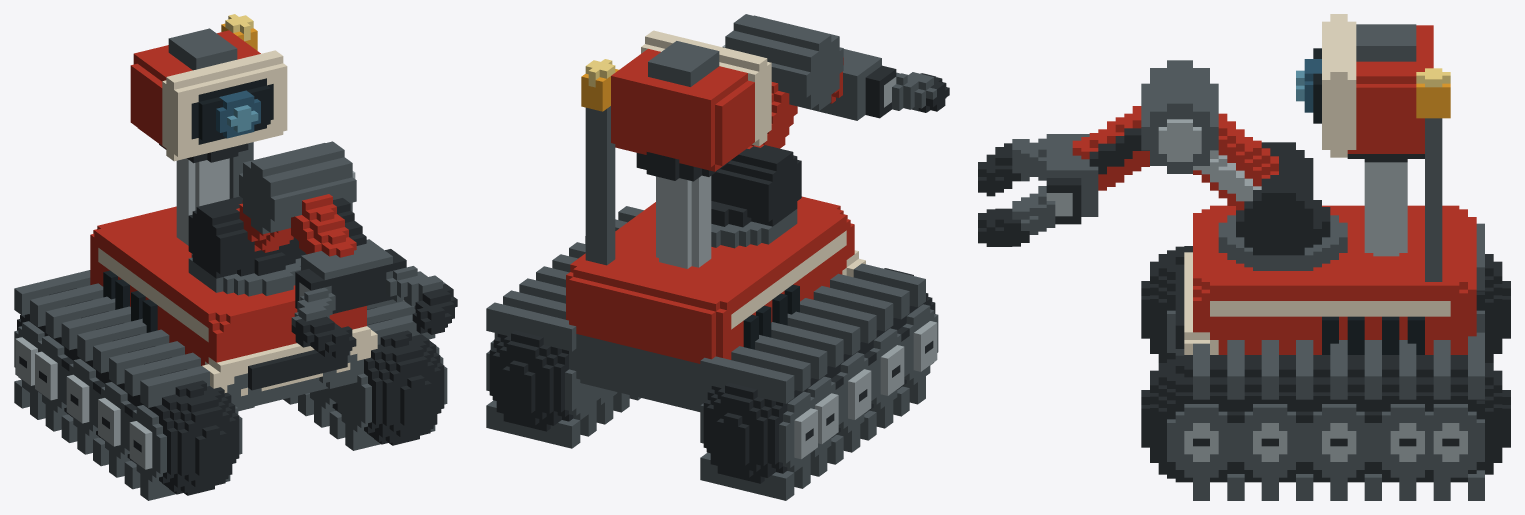
File: rescue_robot.glb
3 views of the same model, side by side, from view 1: azimuth 30°, elevation 25°; view 2: azimuth 150°, elevation 25°; view 3: azimuth 270°, elevation 25° (orthographic). The views are drawn at different scales.
Visible parts, largest first — view 1: rescue_robot; view 2: rescue_robot; view 3: rescue_robot.
Part boxes in pixels (x1=…): rescue_robot: x1=14, y1=14, x2=457, y2=500; rescue_robot: x1=486, y1=14, x2=949, y2=500; rescue_robot: x1=978, y1=14, x2=1510, y2=500.
Size of the model in its own units: 2.15 by 2.5 by 3.1.
